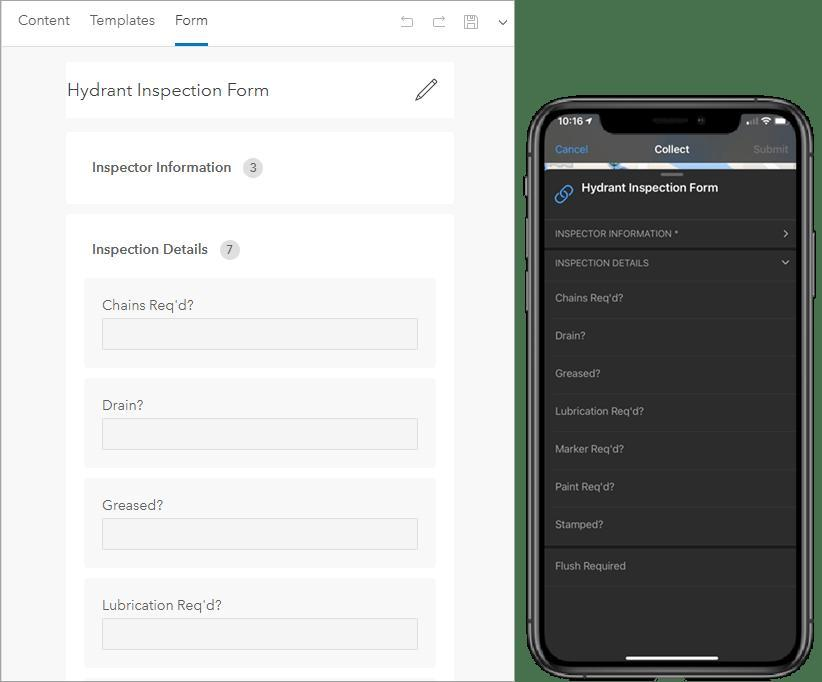checkbox: (547, 250, 798, 281)
icon: (414, 73, 440, 106), (554, 180, 576, 207), (431, 13, 450, 35), (462, 14, 482, 33), (400, 14, 417, 33)
input: (102, 417, 419, 455), (102, 618, 421, 655), (101, 517, 421, 553), (101, 318, 422, 352)
label: (89, 156, 235, 178), (101, 596, 224, 616), (92, 241, 210, 259), (103, 297, 199, 314), (102, 495, 166, 514), (100, 397, 147, 416)
